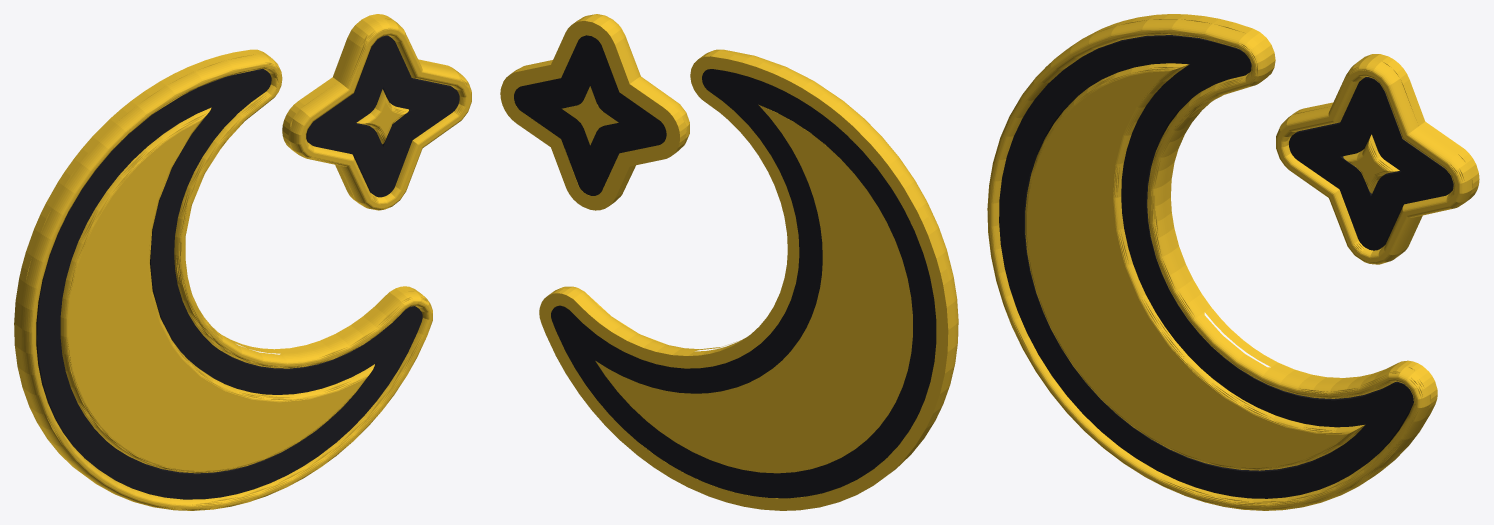
Rendered from night_owl_t8.glb.
The picture shows the model from 3 angles, left to right: view 1: azimuth 30°, elevation 25°; view 2: azimuth 150°, elevation 25°; view 3: azimuth 330°, elevation 25°; orthographic projection. The views are drawn at different scales.
Visible parts, largest first — view 1: mark, mark_channel; view 2: mark, mark_channel; view 3: mark, mark_channel.
Part boxes in pixels (<box>): mark: <box>14,14,471,510</box>; mark_channel: <box>36,35,459,499</box>; mark: <box>500,14,958,510</box>; mark_channel: <box>514,35,936,498</box>; mark: <box>987,14,1479,510</box>; mark_channel: <box>999,35,1453,498</box>.
Size of the model in its own units: 0.4484 by 0.4281 by 0.024.
